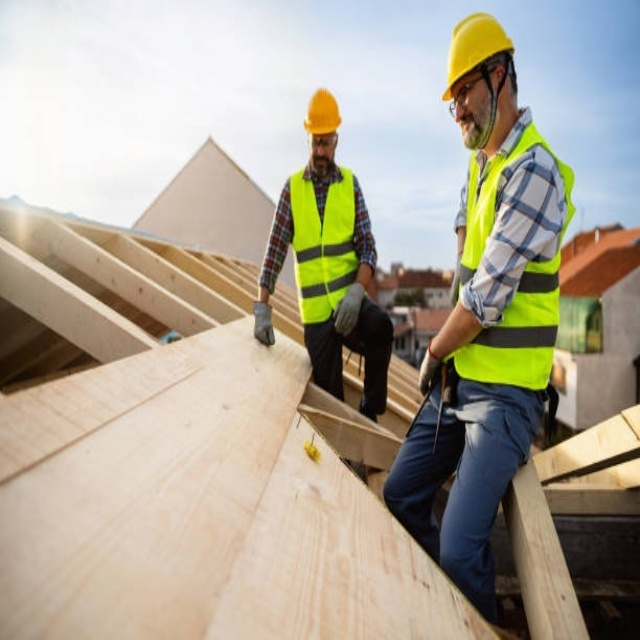Gafas: (448, 68, 491, 119), (310, 133, 337, 148)
Guantes: (334, 283, 365, 336), (418, 337, 445, 396), (253, 301, 275, 346)
Sin_mascara: (455, 111, 479, 152), (310, 149, 330, 176)
